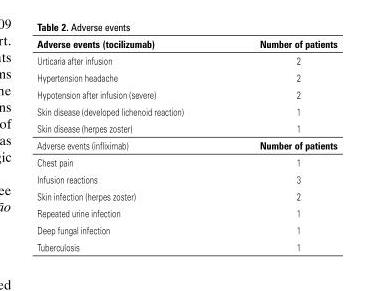table: (36, 37, 336, 252)
table column: (36, 37, 220, 252), (220, 37, 336, 252)
table column header: (36, 37, 336, 51)
table row: (36, 51, 336, 68), (36, 68, 336, 85), (36, 85, 336, 102), (36, 102, 336, 119), (36, 119, 336, 136), (36, 136, 336, 153), (36, 153, 336, 170), (36, 170, 336, 187), (36, 187, 336, 204), (36, 204, 336, 221), (36, 221, 336, 238), (36, 37, 336, 51), (36, 238, 336, 252)
